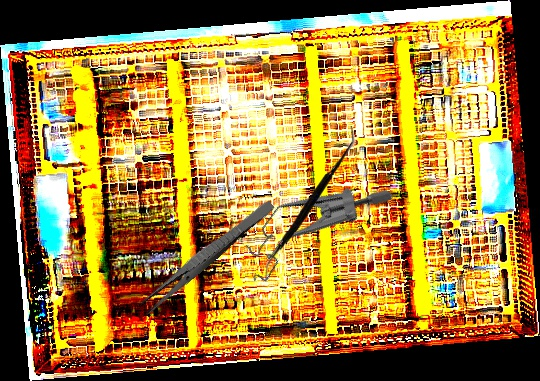Dressing Forceps: (136, 195, 277, 317)
Spatula Surgical: (262, 124, 356, 282)
Speculum: (230, 141, 396, 319)
